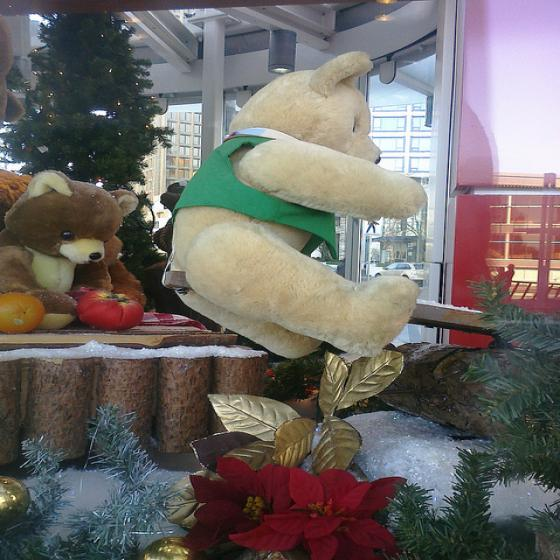car: (369, 261, 424, 282)
teddy bear: (170, 52, 427, 362), (0, 168, 143, 313)
